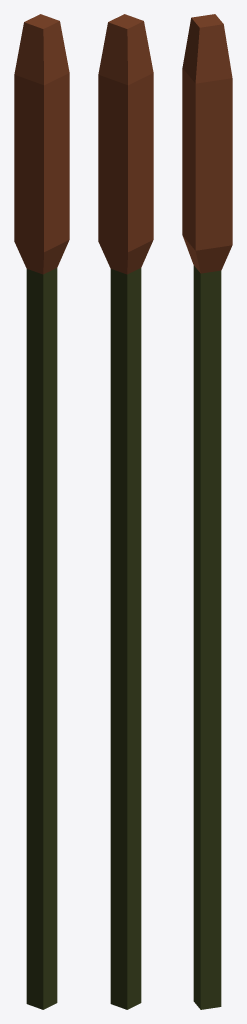
Rendered from Reed.fbx.
3 renders of one model, left to right at view 1: azimuth 30°, elevation 25°; view 2: azimuth 210°, elevation 25°; view 3: azimuth 270°, elevation 25°, orthographic.
Parts seen in each view (by area): view 1: Reed; view 2: Reed; view 3: Reed.
Boxes of the visible parts, x1=… form: Reed: x1=14, y1=14, x2=69, y2=1009; Reed: x1=98, y1=14, x2=153, y2=1009; Reed: x1=182, y1=14, x2=232, y2=1009.
Size of the model in its own units: 0.127 by 2.75 by 0.127.
